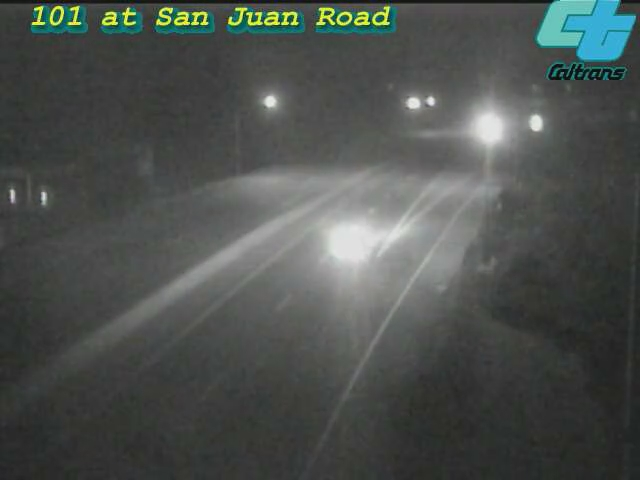vehicle: (311, 202, 391, 282), (461, 103, 511, 153), (513, 98, 563, 148)
